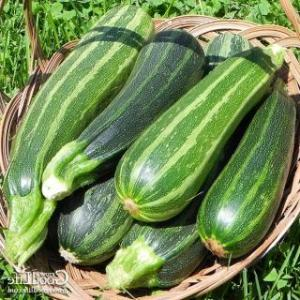zucchini: (196, 48, 292, 256)
